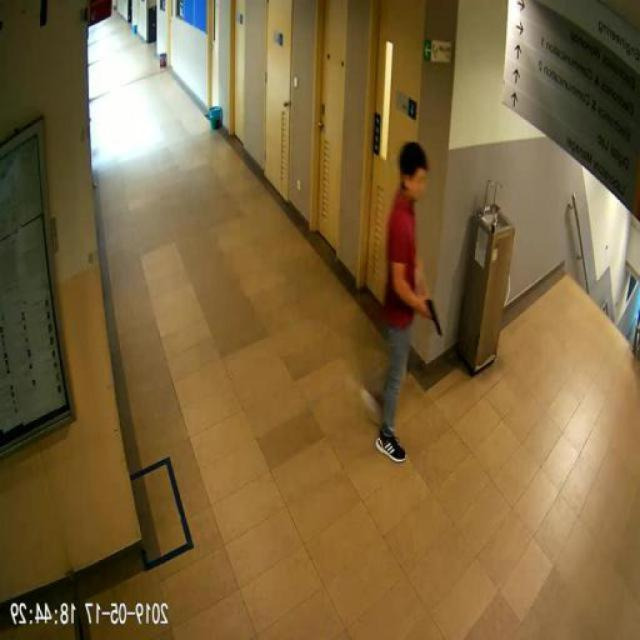pistol: (424, 294, 444, 334)
